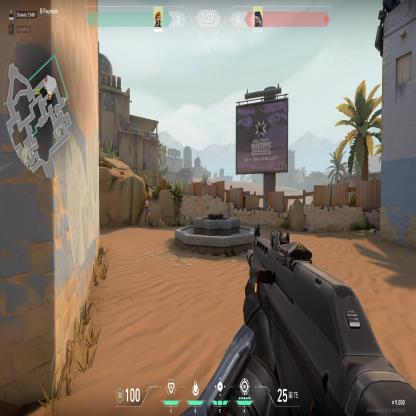enemy: (145, 198, 150, 229)
